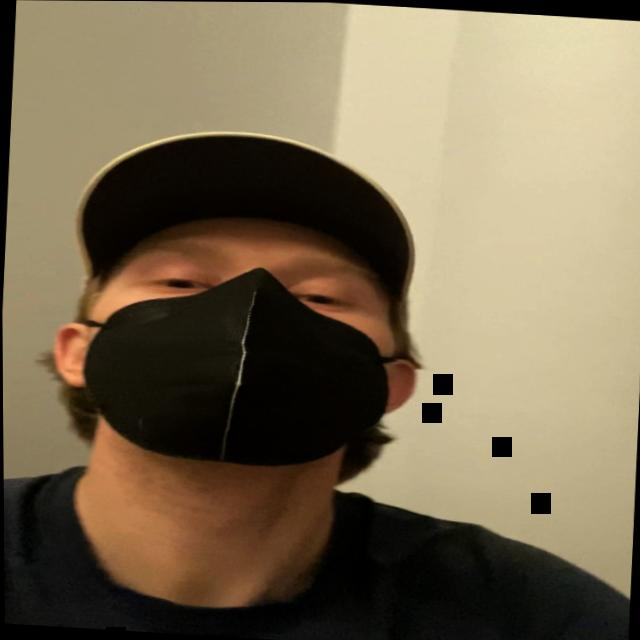Mask: (75, 209, 399, 473)
